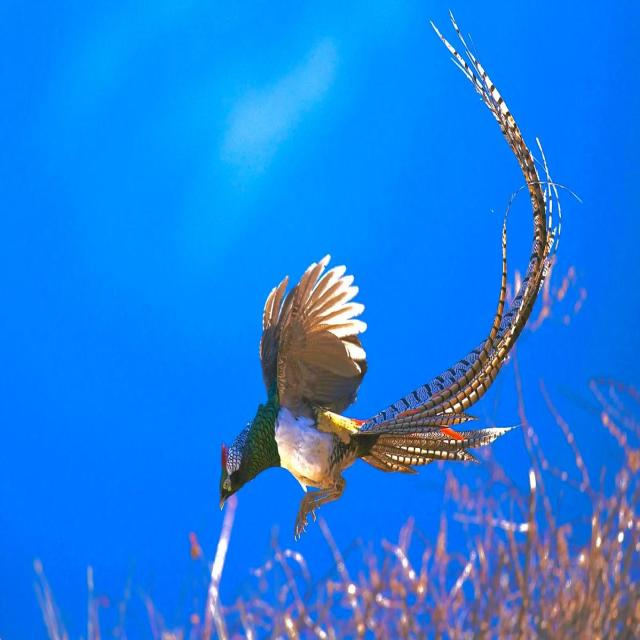Chrysolophus amherstiae: (351, 14, 560, 473)
